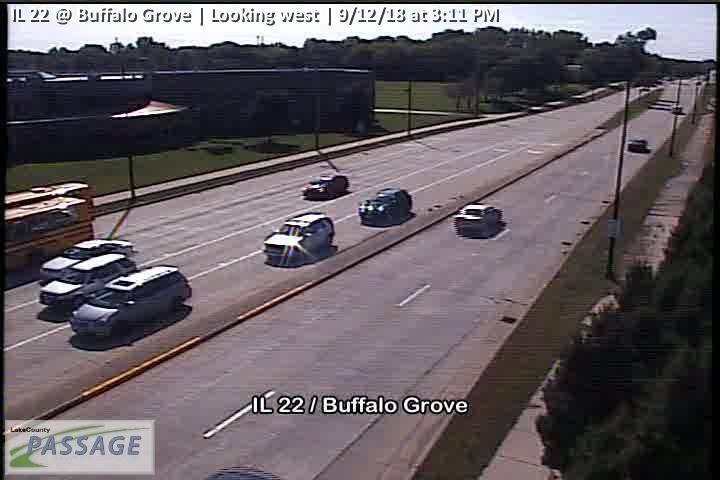Bus: (13, 197, 96, 269)
SUV: (70, 265, 192, 337), (39, 253, 137, 306), (264, 213, 336, 257), (359, 187, 412, 221)
Sedan: (38, 238, 134, 281), (454, 203, 502, 232), (302, 173, 348, 197)
